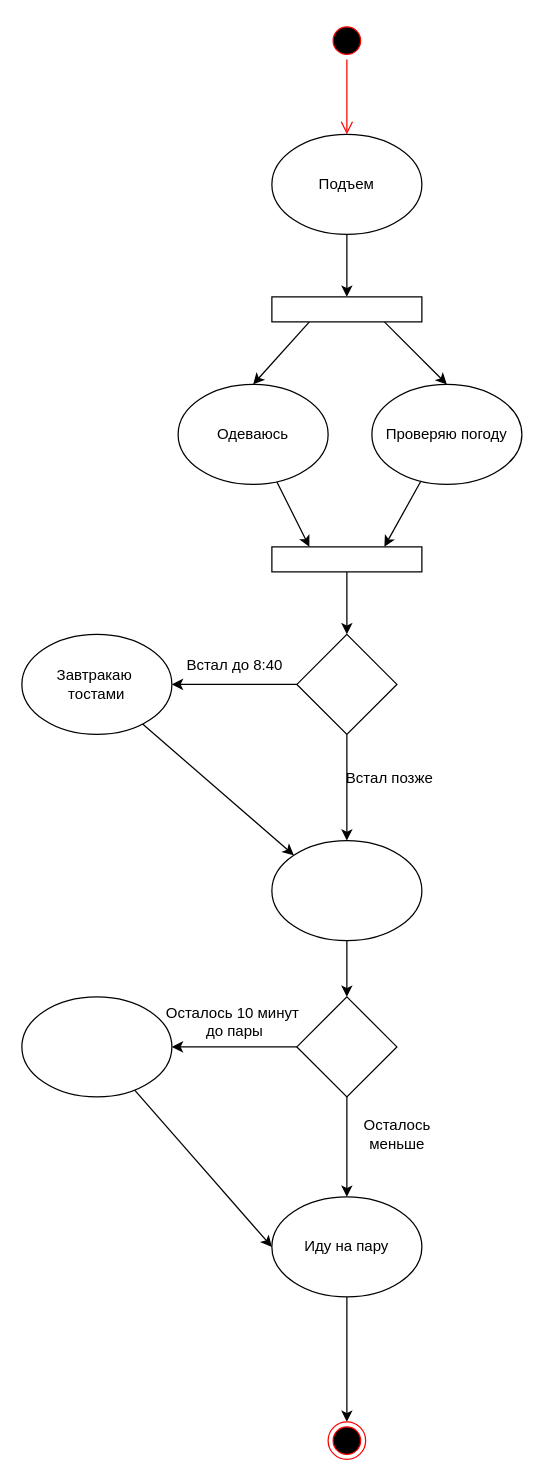
Image size: 544x1481. Some labels were removed from this diagram. The centre of each missing label's shape, as x and y in pixels:
"Жду соседей" belongs at point 96,1046.
"Чищу зубы" belongs at point 346,890.
